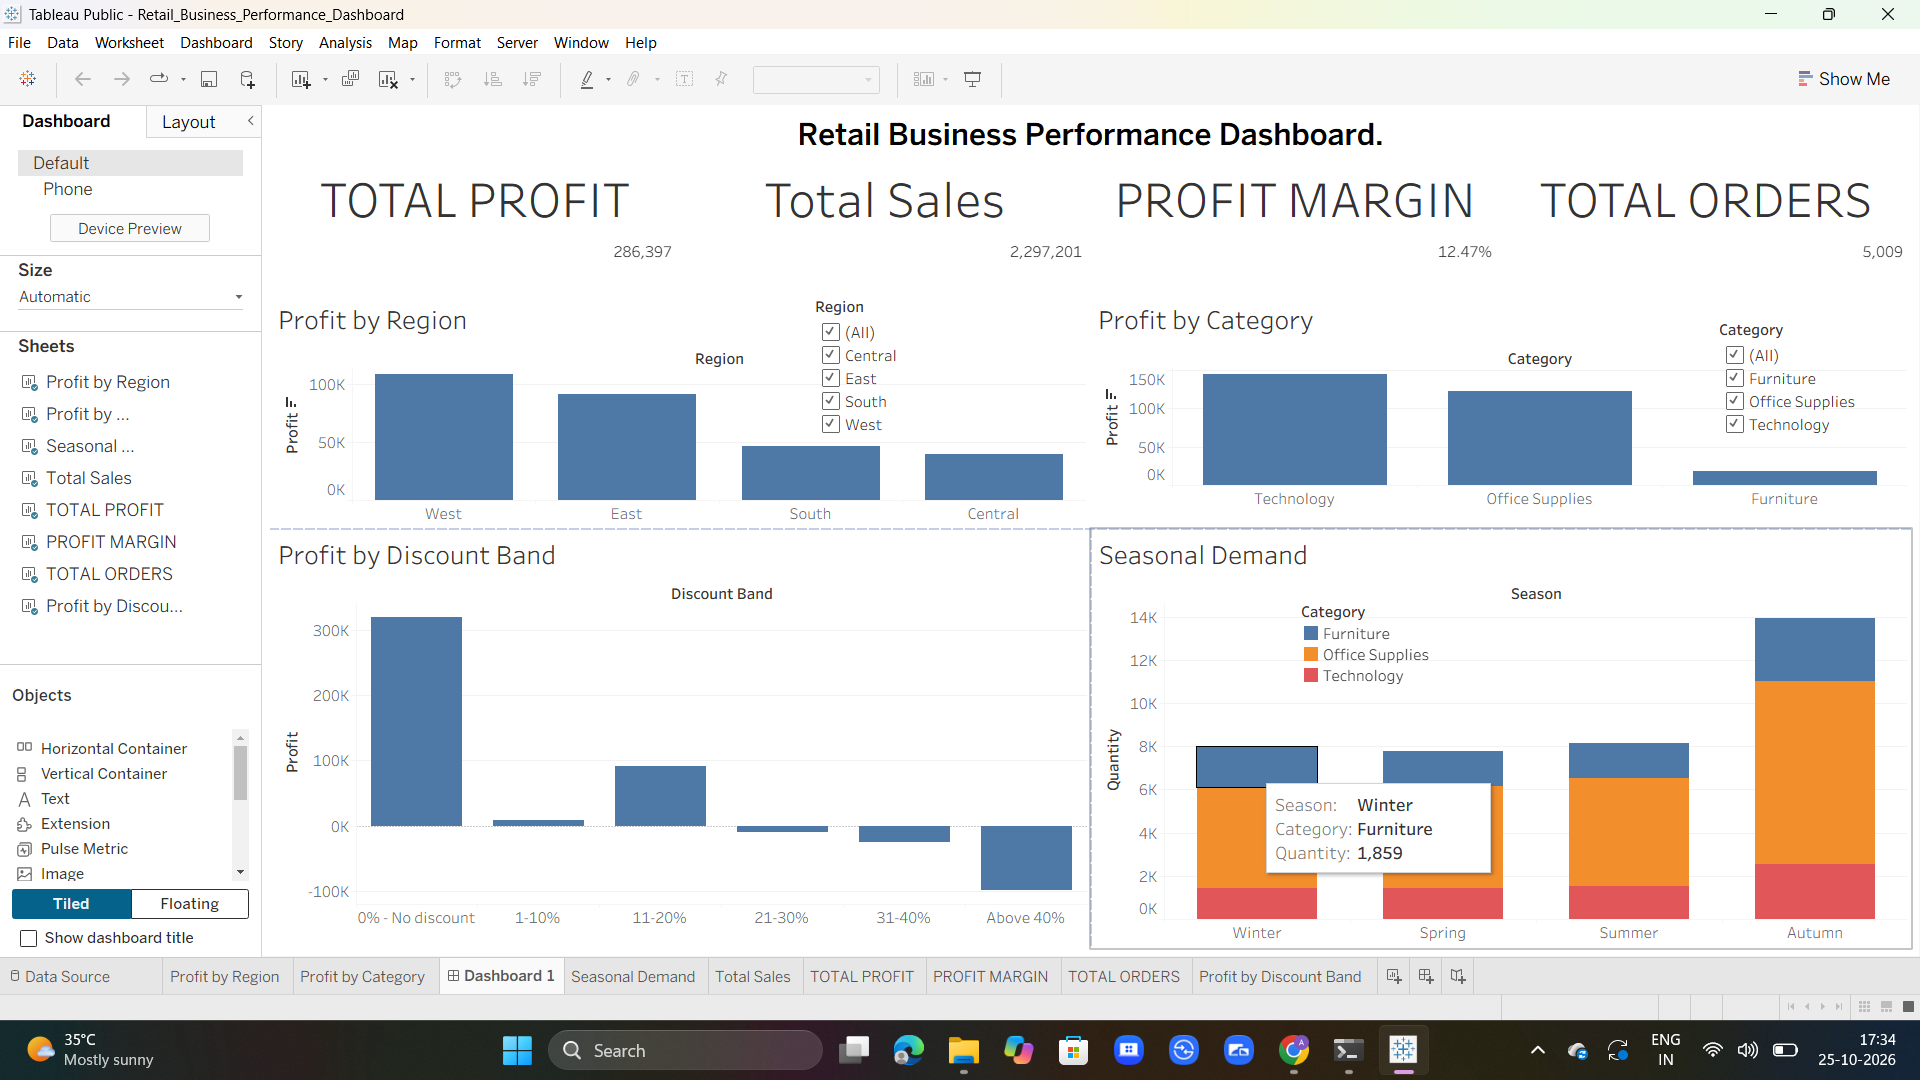

What the dashboard file says about the page in this screenshot:
{"tool":"tableau","page":{"name":"Dashboard 1","canvas":[1000,1000],"units":"permille","ordinal":0},"visuals":[{"type":"title","box":[5,9.4,990,51.7]},{"type":"worksheet","title":"TOTAL PROFIT","mark":"Automatic","box":[5,61.1,247.5,161]},{"type":"worksheet","title":"Total Sales","mark":"Automatic","box":[252.5,61.1,247.5,161]},{"type":"worksheet","title":"PROFIT MARGIN","mark":"Automatic","box":[500,61.1,247.5,161]},{"type":"worksheet","title":"TOTAL ORDERS","mark":"Automatic","box":[747.5,61.1,247.5,161]},{"type":"worksheet","title":"Profit by Region","mark":"Automatic","rows":["Profit"],"cols":["Region"],"box":[5,222.1,495,275.7]},{"type":"worksheet","title":"Profit by Category","mark":"Automatic","rows":["Profit"],"cols":["Category"],"box":[500,222.1,495,275.7]},{"type":"filter","title":"Profit by Region","param":"[federated.0qbmczm0pz8rvu13b13qm1i7ge96].[none:Region:nk]","box":[333.8,224.4,105.2,177.4]},{"type":"filter","title":"Profit by Category","param":"[federated.0qbmczm0pz8rvu13b13qm1i7ge96].[none:Category:nk]","box":[879.1,251.5,105.2,150.4]},{"type":"worksheet","title":"Profit by Discount Band","mark":"Automatic","rows":["Profit"],"cols":["Calculation_0607539454791684"],"box":[5,497.8,495,492.8]},{"type":"worksheet","title":"Seasonal Demand","mark":"Automatic","rows":["Quantity"],"cols":["Calculation_0607539459940359"],"box":[500,497.8,495,492.8]},{"type":"legend","title":"Seasonal Demand","param":"[federated.0qbmczm0pz8rvu13b13qm1i7ge96].[none:Category:nk]","box":[624.9,578.1,100.2,109.3]}]}

Visuals, with their boxes on the dashboard's canvas, which has no fixed pixel size, in thousandths of its width and height (x1, y1, x2, y2). These are canvas units, not pixel positions in the 1920x1080 screenshot, which may show the page scaled, cropped or inside an application window:
title: crop(5, 9, 995, 61)
"TOTAL PROFIT" worksheet: crop(5, 61, 252, 222)
"Total Sales" worksheet: crop(252, 61, 500, 222)
"PROFIT MARGIN" worksheet: crop(500, 61, 748, 222)
"TOTAL ORDERS" worksheet: crop(748, 61, 995, 222)
"Profit by Region" worksheet: crop(5, 222, 500, 498)
"Profit by Category" worksheet: crop(500, 222, 995, 498)
"Profit by Region" filter: crop(334, 224, 439, 402)
"Profit by Category" filter: crop(879, 252, 984, 402)
"Profit by Discount Band" worksheet: crop(5, 498, 500, 991)
"Seasonal Demand" worksheet: crop(500, 498, 995, 991)
"Seasonal Demand" legend: crop(625, 578, 725, 687)
